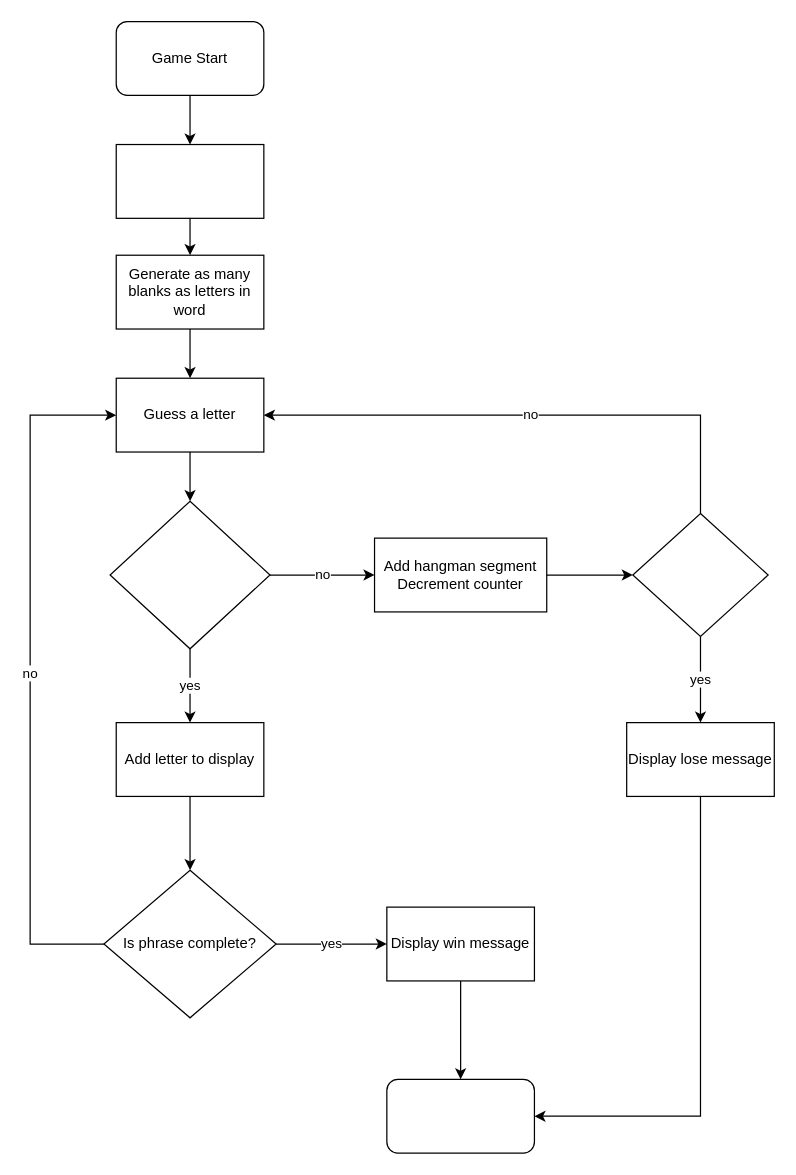
The diagram is 796 pixels wide and 1175 high, and some of its shapes have lost their labels. Here are the shapes that lost their labels. From the top down, the centre of each, then its label:
[189,180]: Generate Random Word
[189,574]: Is letter in phrase?
[700,574]: Is counter 0?
[460,1115]: Game end
